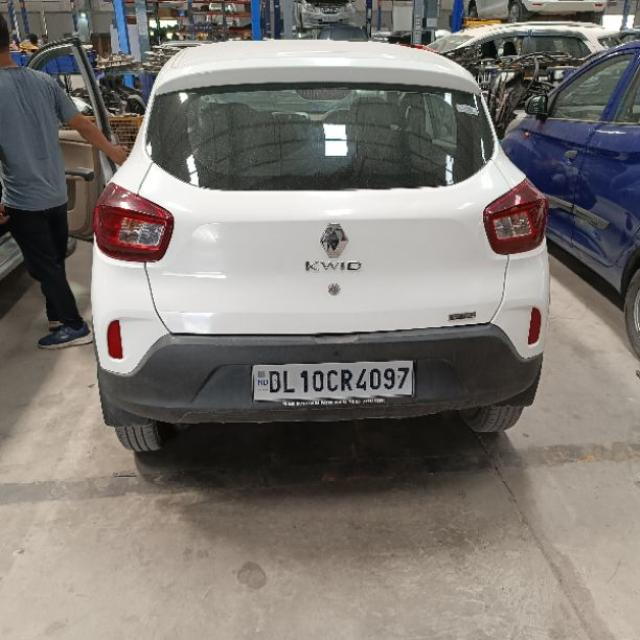license_plate: (250, 358, 416, 402)
